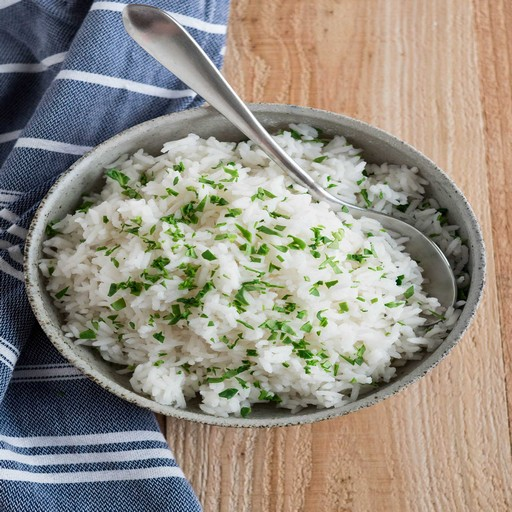rice: (109, 189, 304, 350)
